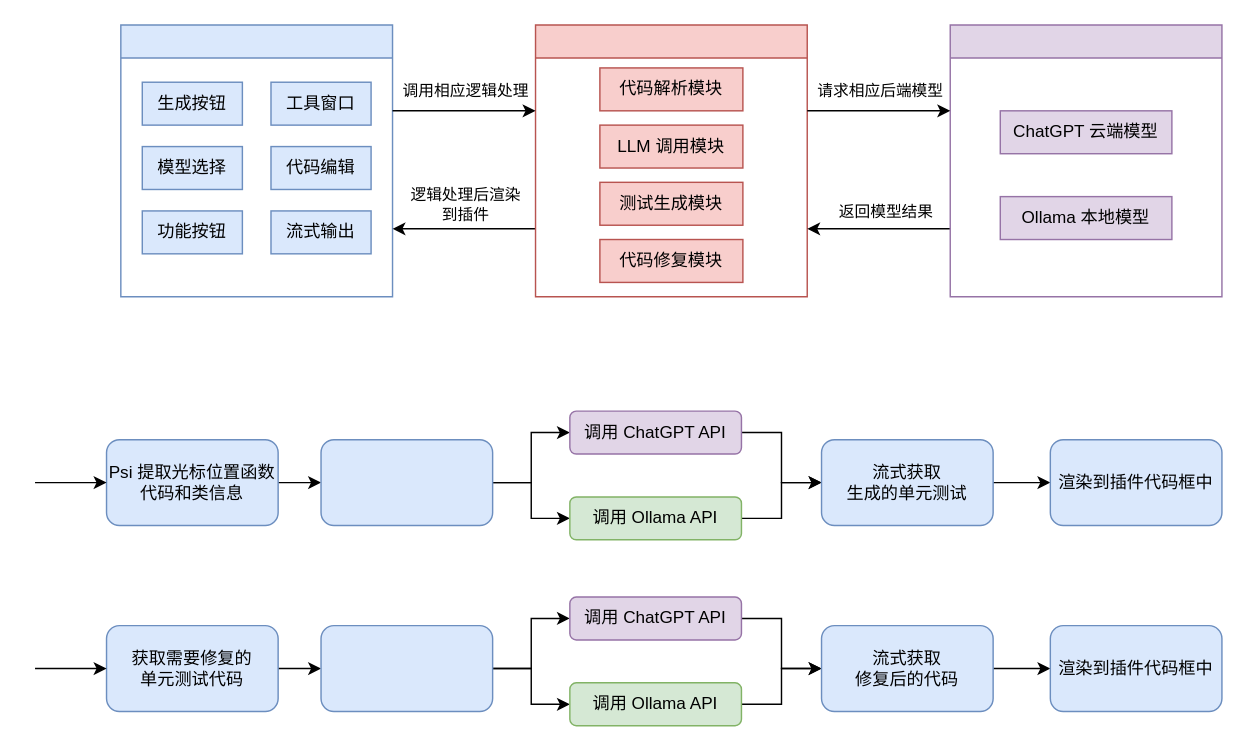
This 1247x751 diagram has some shape labels left out. The shapes that lost their labels are listed below. From the top down, each one's box as (x1, y1, x2, y2) in pixels, then its label:
(119, 24, 393, 297): 用户交互层
(534, 24, 807, 297): 逻辑处理层
(949, 24, 1222, 297): 后端服务层
(320, 438, 493, 526): 构造单元测试生成Prompt
(320, 624, 493, 711): 构造修复代码 Prompt
